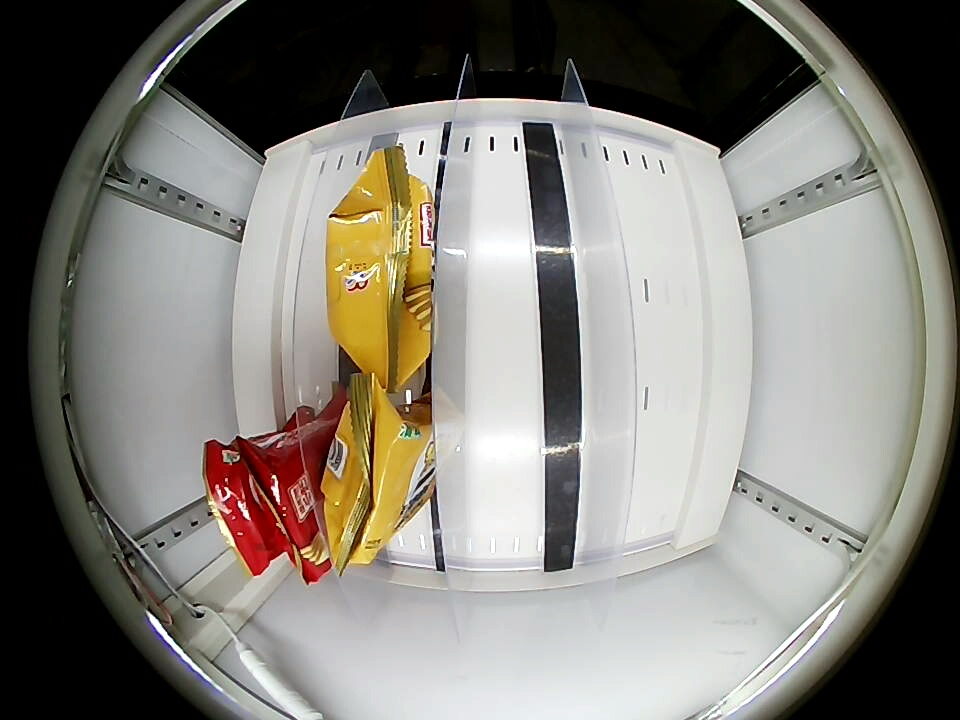kaomo_gali: (326, 157, 436, 386), (322, 389, 440, 567)
kaomo_shaokao: (244, 415, 336, 576), (203, 441, 269, 572)
